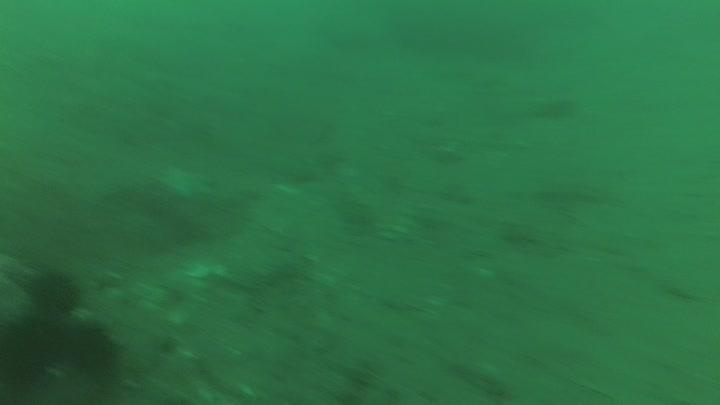echinus: (0, 310, 71, 399), (62, 318, 121, 379), (24, 266, 83, 318)
starfish: (157, 161, 216, 203)
